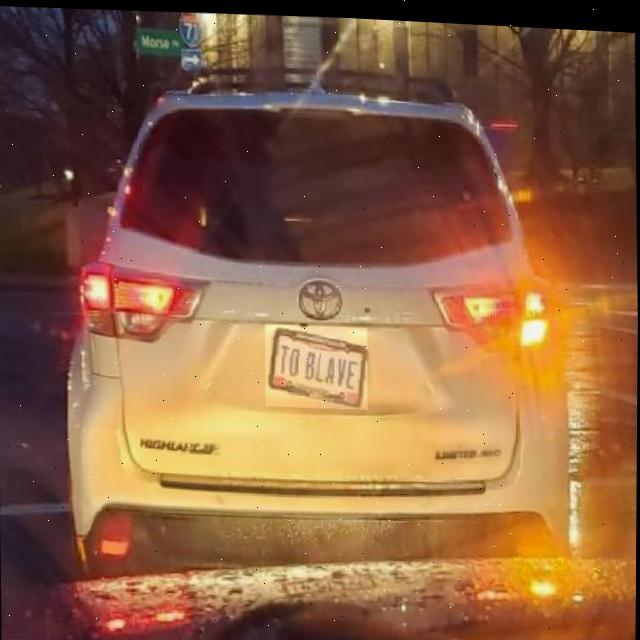LicensePlate: (267, 322, 367, 405)
